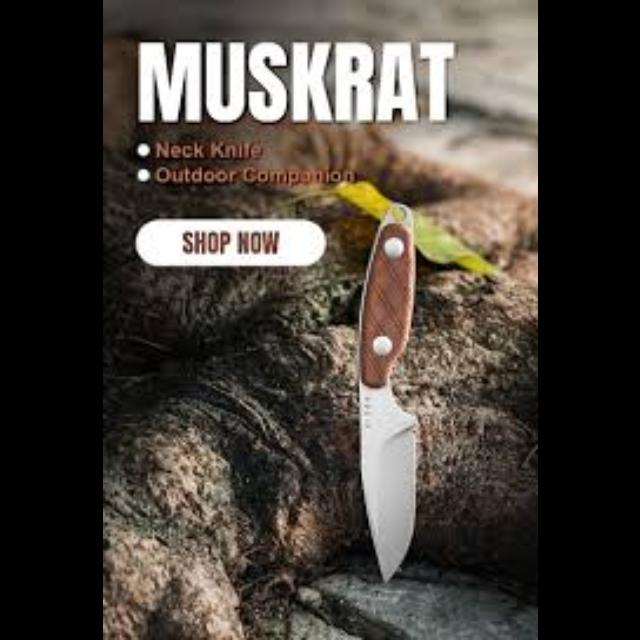knife: (333, 179, 417, 581)
